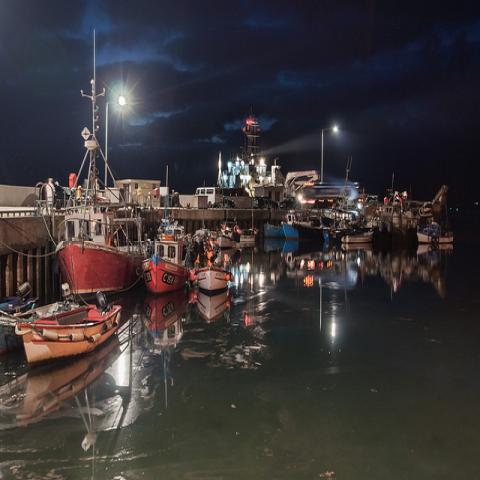truck: (195, 187, 223, 207)
